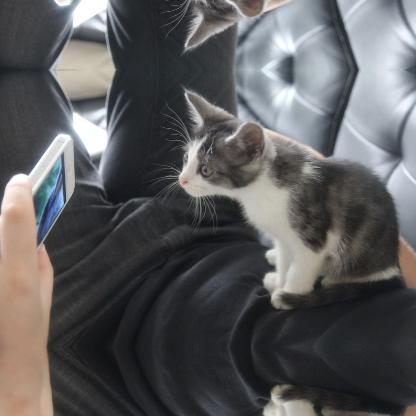Cat: (150, 83, 408, 309), (150, 0, 408, 56)
